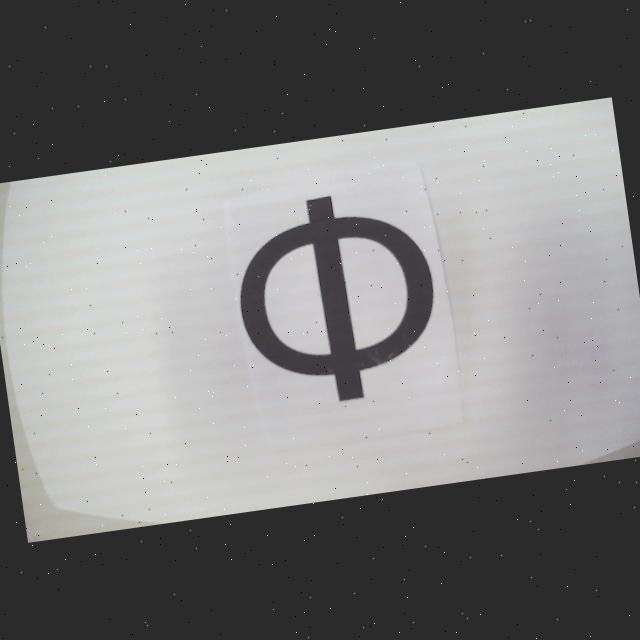PHI: (226, 182, 448, 413)
